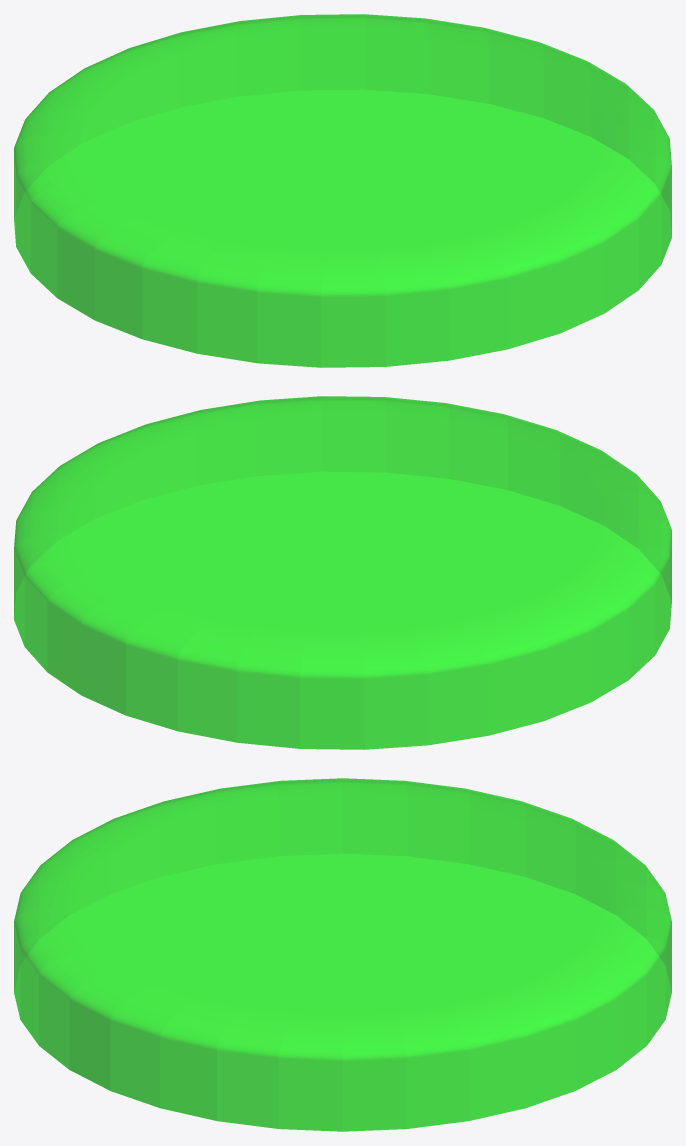
Rendered from Highlight Selected Piece.fbx.
3 renders of one model, top to bottom at view 1: azimuth 30°, elevation 25°; view 2: azimuth 150°, elevation 25°; view 3: azimuth 270°, elevation 25°, orthographic.
Parts seen in each view (by area): view 1: Cylinder.016; view 2: Cylinder.016; view 3: Cylinder.016.
Boxes of the visible parts, <box> form: Cylinder.016: <box>14,14,671,367</box>; Cylinder.016: <box>14,396,671,749</box>; Cylinder.016: <box>14,778,671,1131</box>.
Bounding box in the file's own units: 167 × 24.53 × 167.
